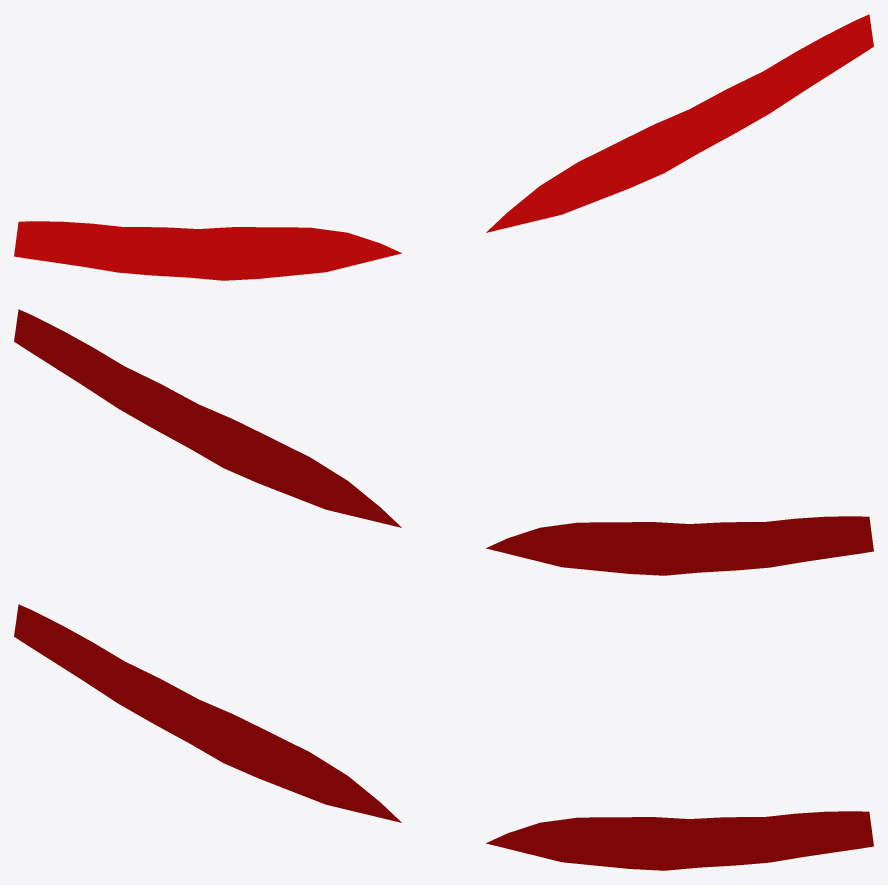
Rendered from frame62.fbx.
3 views of the same model, one above another, from view 1: azimuth 30°, elevation 25°; view 2: azimuth 150°, elevation 25°; view 3: azimuth 330°, elevation 25° (orthographic).
Parts seen in each view (by area): view 1: MaterialLayer; view 2: MaterialLayer; view 3: MaterialLayer.
Part boxes in pixels (x1,y1,x2,y2): MaterialLayer: (14,14,873,280); MaterialLayer: (14,309,873,575); MaterialLayer: (14,604,873,870).
Bounding box in the file's own units: 1256 × 175 × 0.
